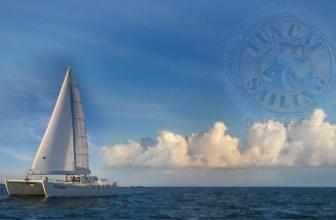fanchuan: (4, 62, 132, 201)
